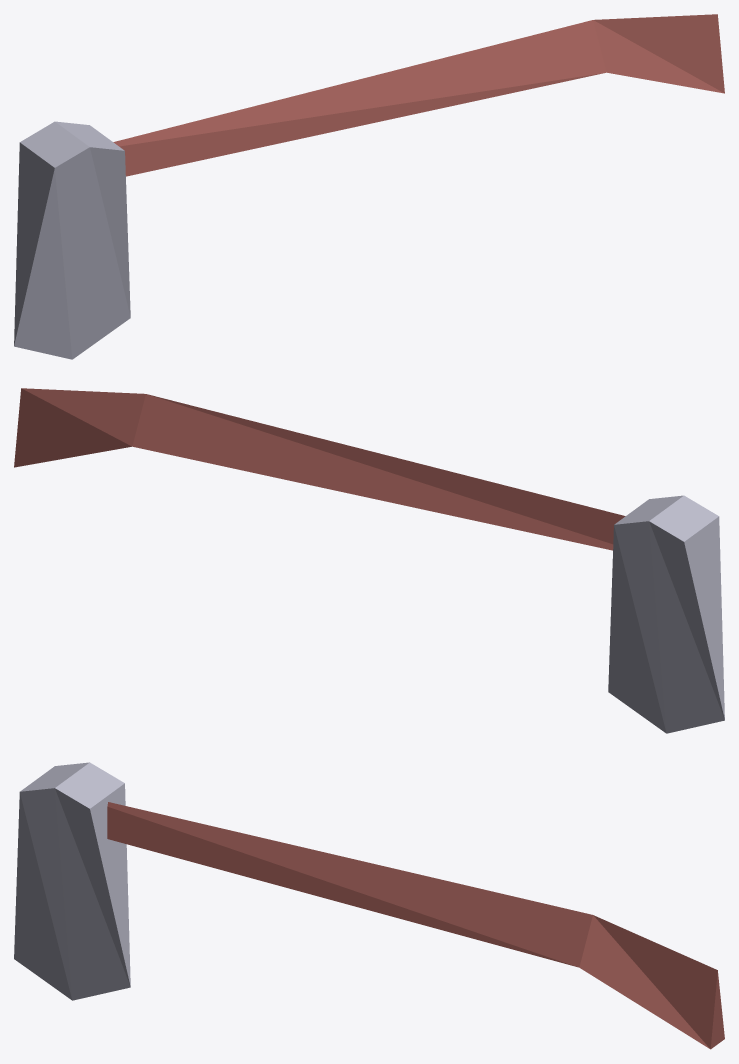
Rendered from Axt_2021.glb.
The picture shows the model from 3 angles, top to bottom: view 1: azimuth 30°, elevation 25°; view 2: azimuth 150°, elevation 25°; view 3: azimuth 330°, elevation 25°; orthographic projection.
Parts seen in each view (by area): view 1: pCylinderShape122, pCylinderShape123; view 2: pCylinderShape122, pCylinderShape123; view 3: pCylinderShape122, pCylinderShape123.
Boxes of the visible parts, x1,y1,x2,y2 form: pCylinderShape122: [113, 14, 724, 176]; pCylinderShape123: [14, 121, 130, 359]; pCylinderShape122: [14, 388, 625, 550]; pCylinderShape123: [608, 495, 724, 733]; pCylinderShape122: [107, 802, 724, 1049]; pCylinderShape123: [14, 762, 130, 1000].
Size of the model in its own units: 0.1634 by 0.05 by 0.0141.
